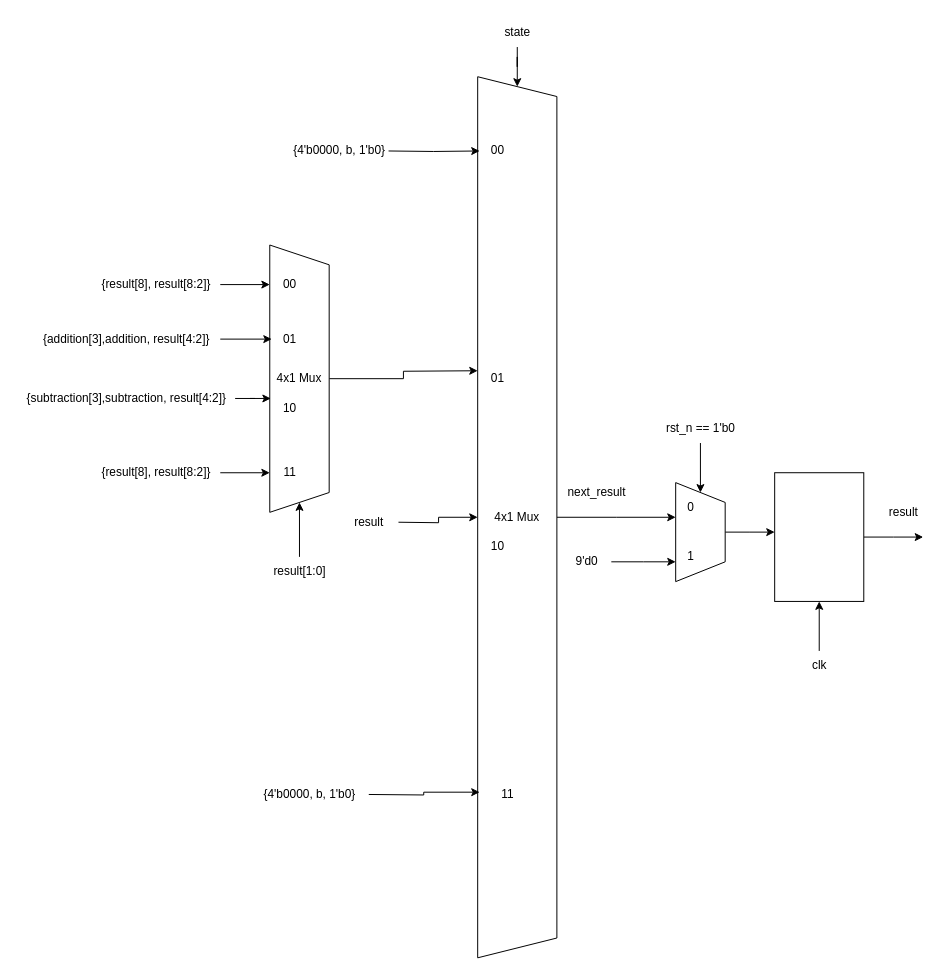
Image size: 948x975. Some labels were removed from this diagram. Here are the shapes that lost their labels. From the top down, the box of each, then its label:
(675, 482, 725, 582): 2x1Mux
(774, 472, 864, 601): DFF
